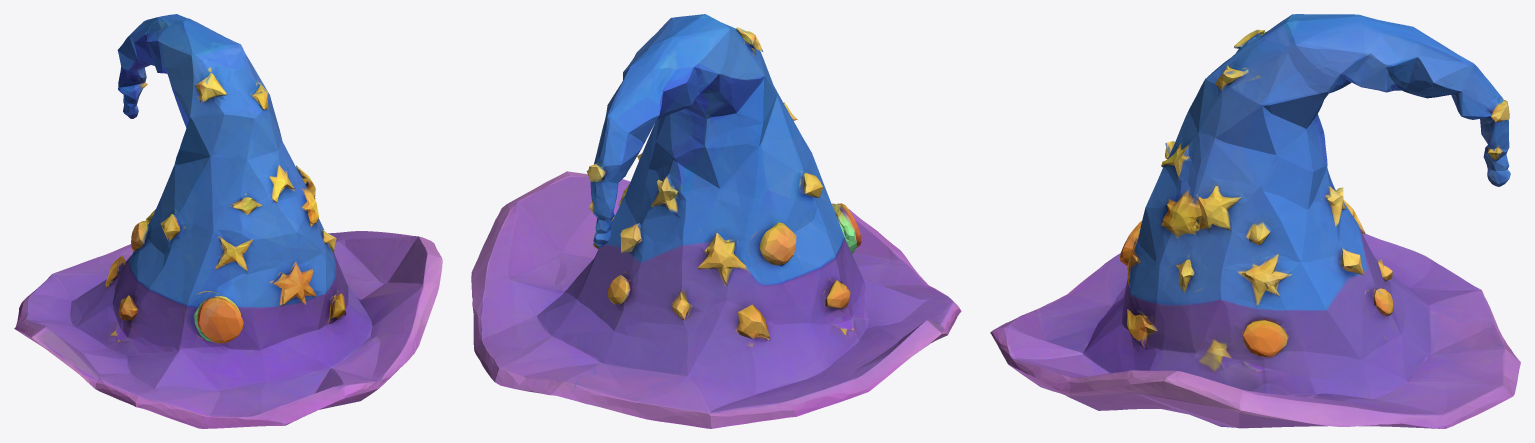
Rendered from arcane-hat.glb.
3 renders of one model, left to right at view 1: azimuth 30°, elevation 25°; view 2: azimuth 150°, elevation 25°; view 3: azimuth 270°, elevation 25°, orthographic. The views are drawn at different scales.
Visible parts, largest first — view 1: temp; view 2: temp; view 3: temp.
Part boxes in pixels (left/top/right/bottom): temp: left=14, top=14, right=442, bottom=428; temp: left=471, top=14, right=961, bottom=428; temp: left=990, top=14, right=1520, bottom=428.
Bounding box in the file's own units: 2 × 1.44 × 1.97.
Materials: 1 (1 with a texture image).
